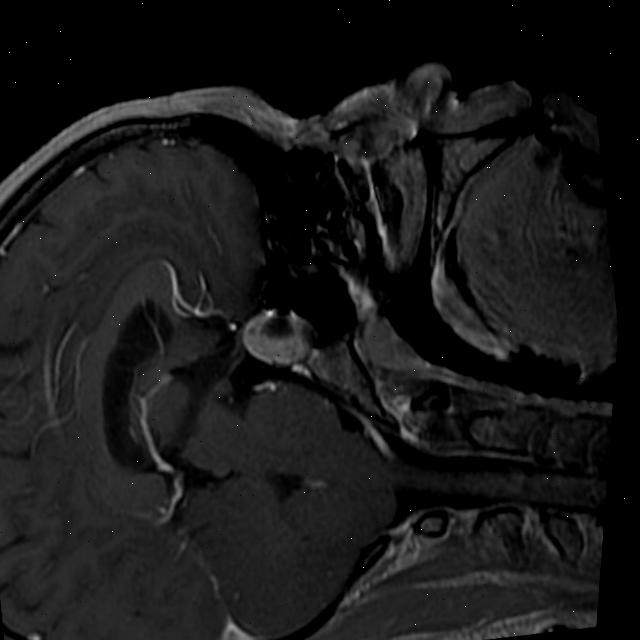Pituitary: (233, 294, 324, 374)
